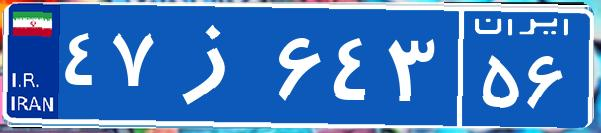3: (385, 28, 445, 110)
4: (330, 28, 385, 110), (57, 26, 110, 107)
5: (475, 38, 525, 113)
6: (273, 28, 330, 110), (525, 38, 570, 115)
7: (110, 28, 158, 105)
ز: (158, 15, 273, 115)
